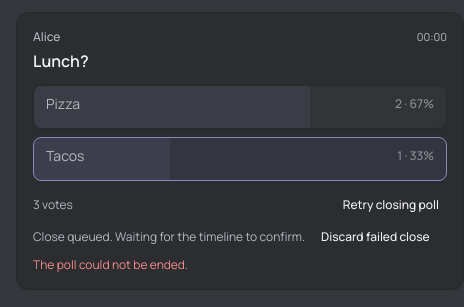
Scenario: PollMessage › retains the admission lock after actually retrying a failed close
Click the button "Retry closing poll": (391,205) [335, 193, 447, 217]
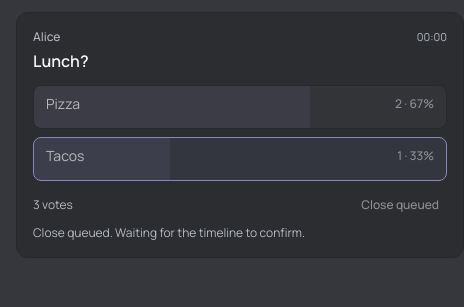
Check: the button "Pizza 2 · 67%" is disabled, box [33, 85, 447, 129]
Check: the button "Close queued" is disabled, box [353, 193, 447, 217]
